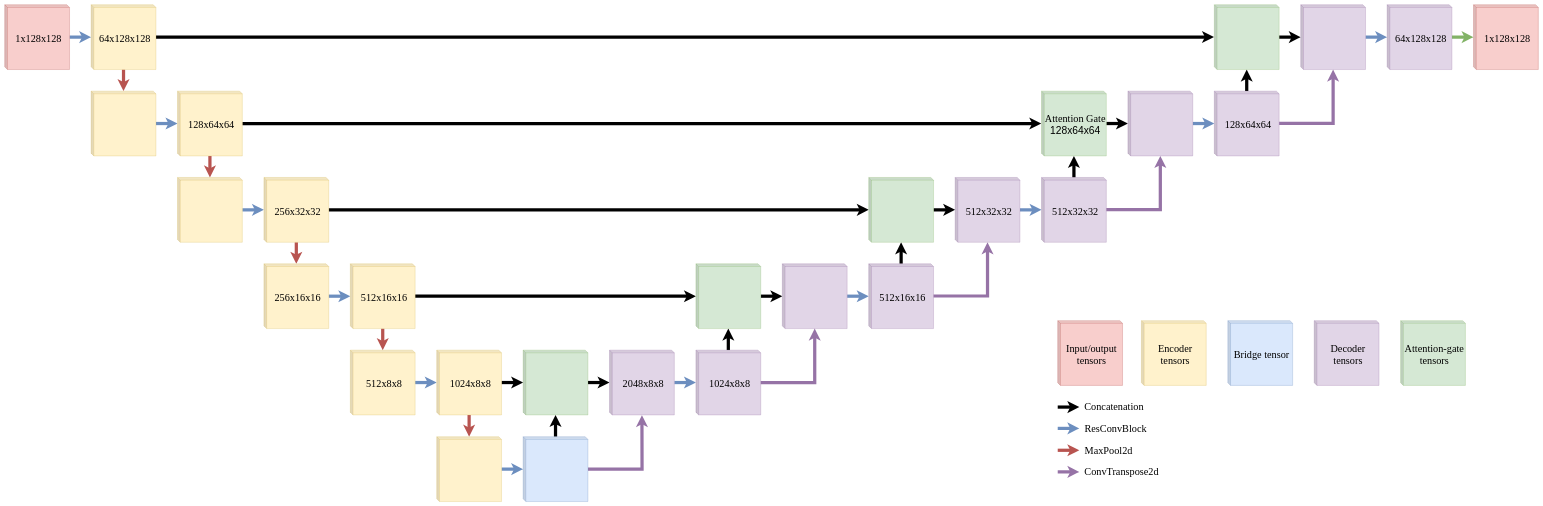
The diagram is 1543 pixels wide and 506 high, and some of its shapes have lost their labels. Here are the shapes that lost their labels. From the top down, the centre of each, then its label:
point (1246, 37): Attention Gate 64x128x128
point (1333, 37): 128x128x128
point (123, 123): 64x64x64
point (1160, 123): 256x64x64
point (209, 209): 128x32x32
point (901, 209): Attention Gate 256x32x32
point (728, 296): Attention Gate 512x16x16
point (814, 296): 1024x16x16
point (555, 382): Attention Gate 1024x8x8
point (469, 469): 1024x4x4
point (555, 469): 2048x4x4
